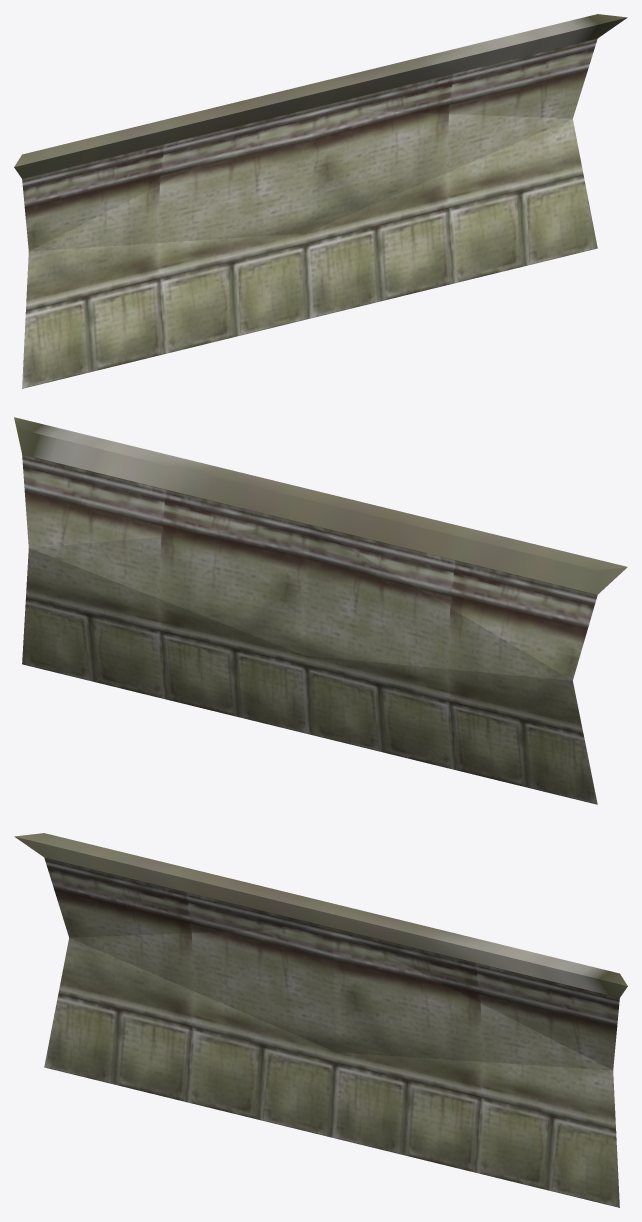
The model's file is W_A1_xxxx [GelbesMarmor]_2165.glb.
3 renders of one model, top to bottom at view 1: azimuth 30°, elevation 25°; view 2: azimuth 150°, elevation 25°; view 3: azimuth 330°, elevation 25°, orthographic.
Visible parts, largest first — view 1: polySurfaceShape787, polySurfaceShape1065; view 2: polySurfaceShape787, polySurfaceShape1065; view 3: polySurfaceShape787, polySurfaceShape1065.
Part boxes in pixels (left/top/right/bottom): polySurfaceShape787: left=22, top=38, right=597, bottom=388; polySurfaceShape1065: left=14, top=14, right=627, bottom=178; polySurfaceShape787: left=22, top=454, right=597, bottom=804; polySurfaceShape1065: left=14, top=417, right=627, bottom=594; polySurfaceShape787: left=44, top=857, right=619, bottom=1207; polySurfaceShape1065: left=14, top=833, right=627, bottom=997.
Size of the model in its own units: 1.07 by 0.3891 by 0.0607.
2 materials, 2 textured.
